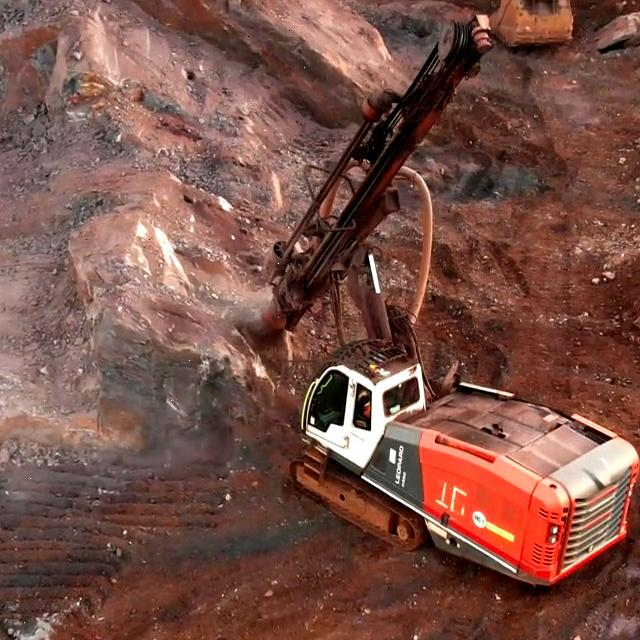Blast rig: (302, 395, 591, 516)
